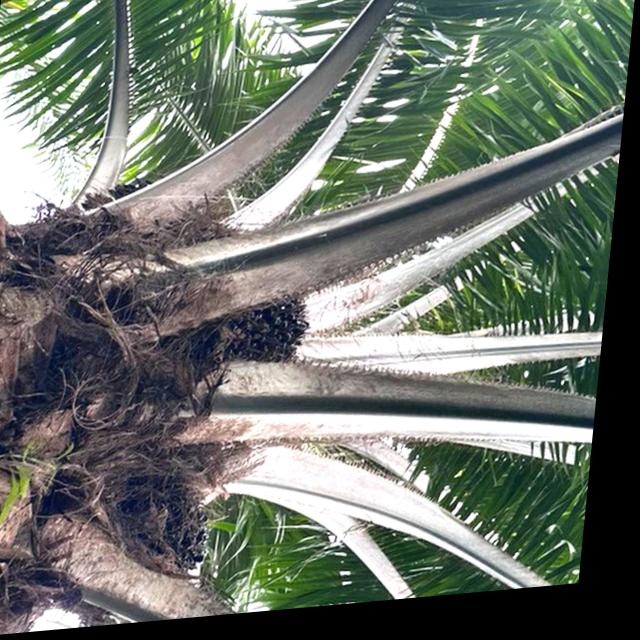unripe: (108, 471, 229, 594), (211, 288, 324, 387)
